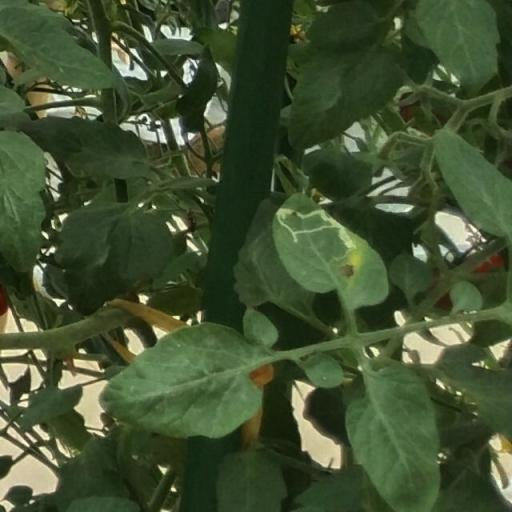disease_tomato: (274, 190, 388, 312)
